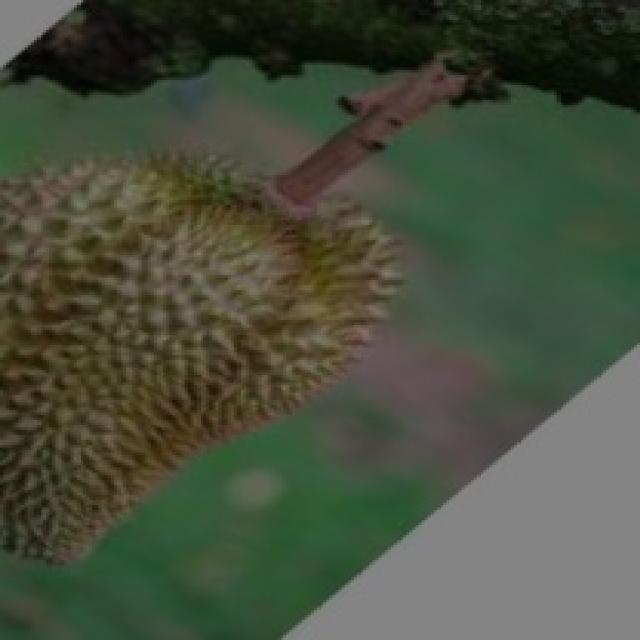fruit: (0, 97, 378, 540)
